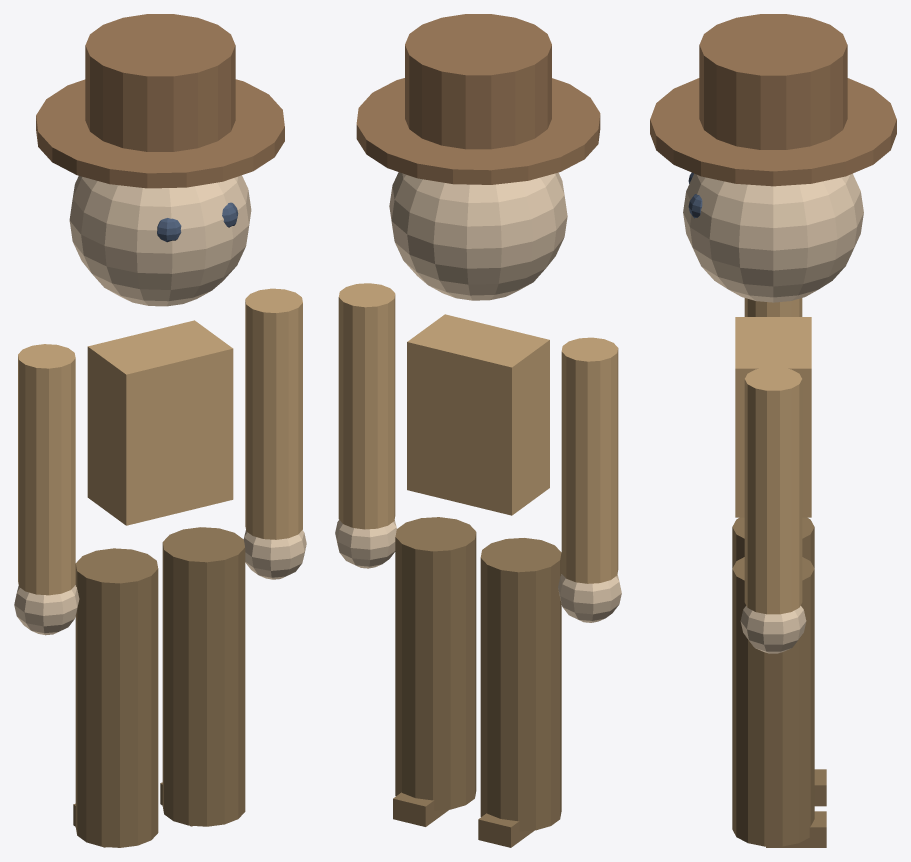
The model's file is CassianCarter.fbx.
3 renders of one model, left to right at view 1: azimuth 30°, elevation 25°; view 2: azimuth 150°, elevation 25°; view 3: azimuth 270°, elevation 25°, orthographic. The views are drawn at different scales.
Parts seen in each view (by area): view 1: CassianCarter; view 2: CassianCarter; view 3: CassianCarter.
Part boxes in pixels (x1,y1,x2,y2): CassianCarter: (14,14,306,847); CassianCarter: (335,14,621,847); CassianCarter: (650,14,896,847).
Size of the model in its own units: 84.43 by 224 by 64.8.
